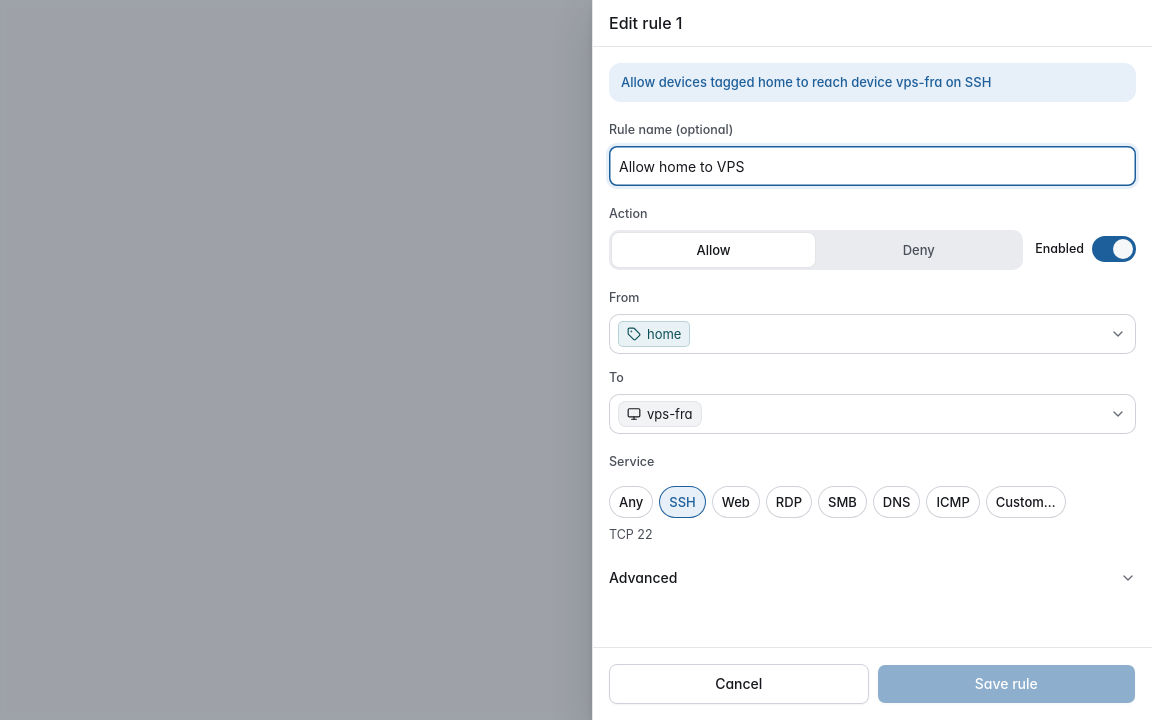
Test case: RuleSheet › only shows protocol and ports for a custom service
This screenshot has width=1152, height=720.
Expected: the element "Protocol" is not shown
Expected: the field labelled "Destination ports" is not shown
Click the radio button labelled "Custom…" at {"x": 1026, "y": 502}, box [986,486,1066,518]
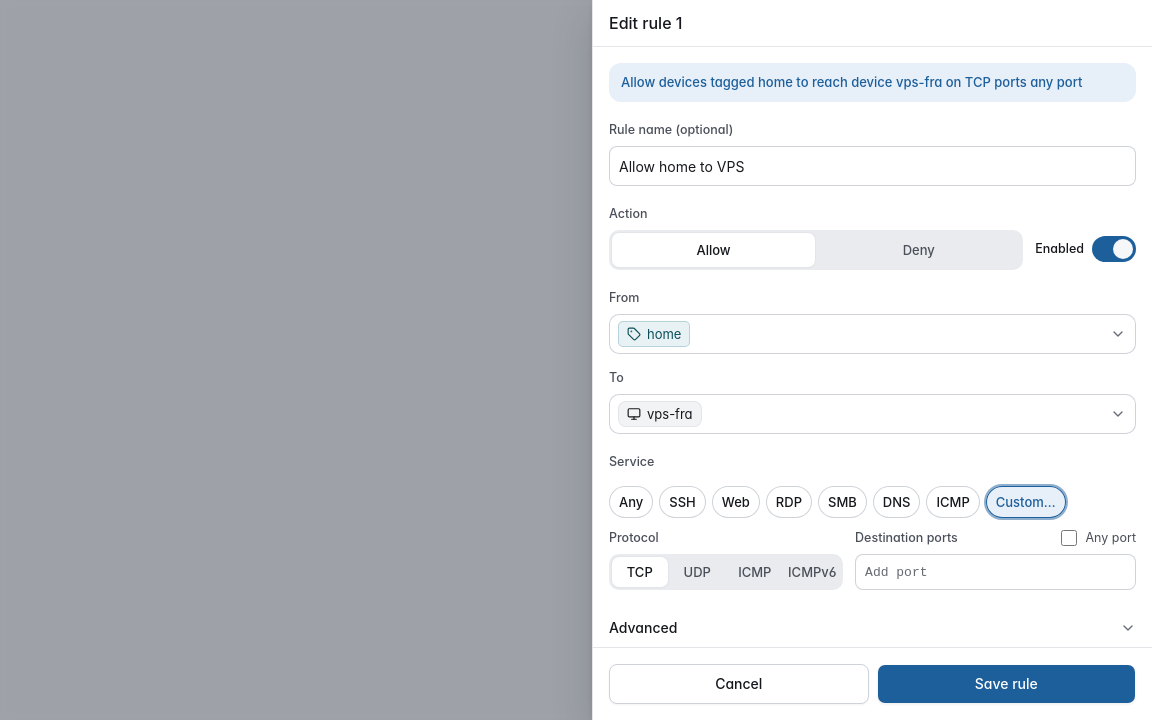
Result: the button with aria-label "Protocol" is shown at [609,554,843,590]
Result: the field named "Destination ports" is shown at [861,560,1130,584]
